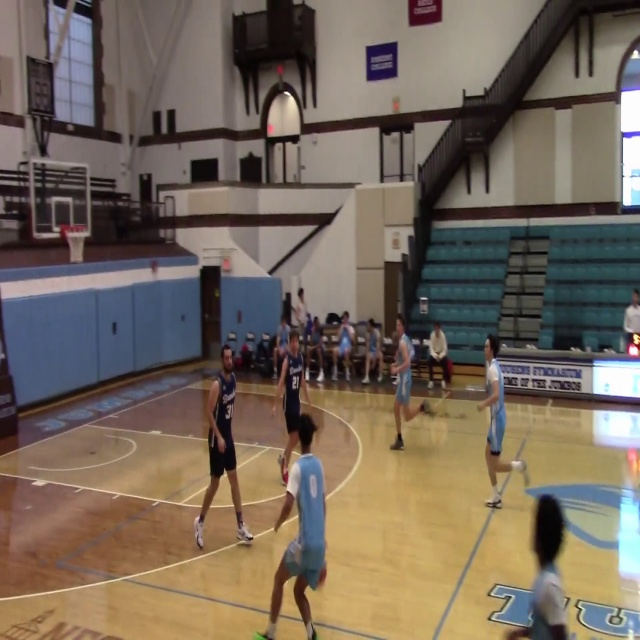Basketball: (511, 460, 526, 472)
